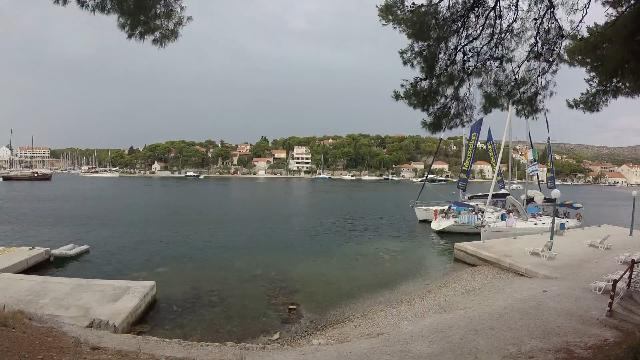Freighter: (0, 165, 58, 185)
